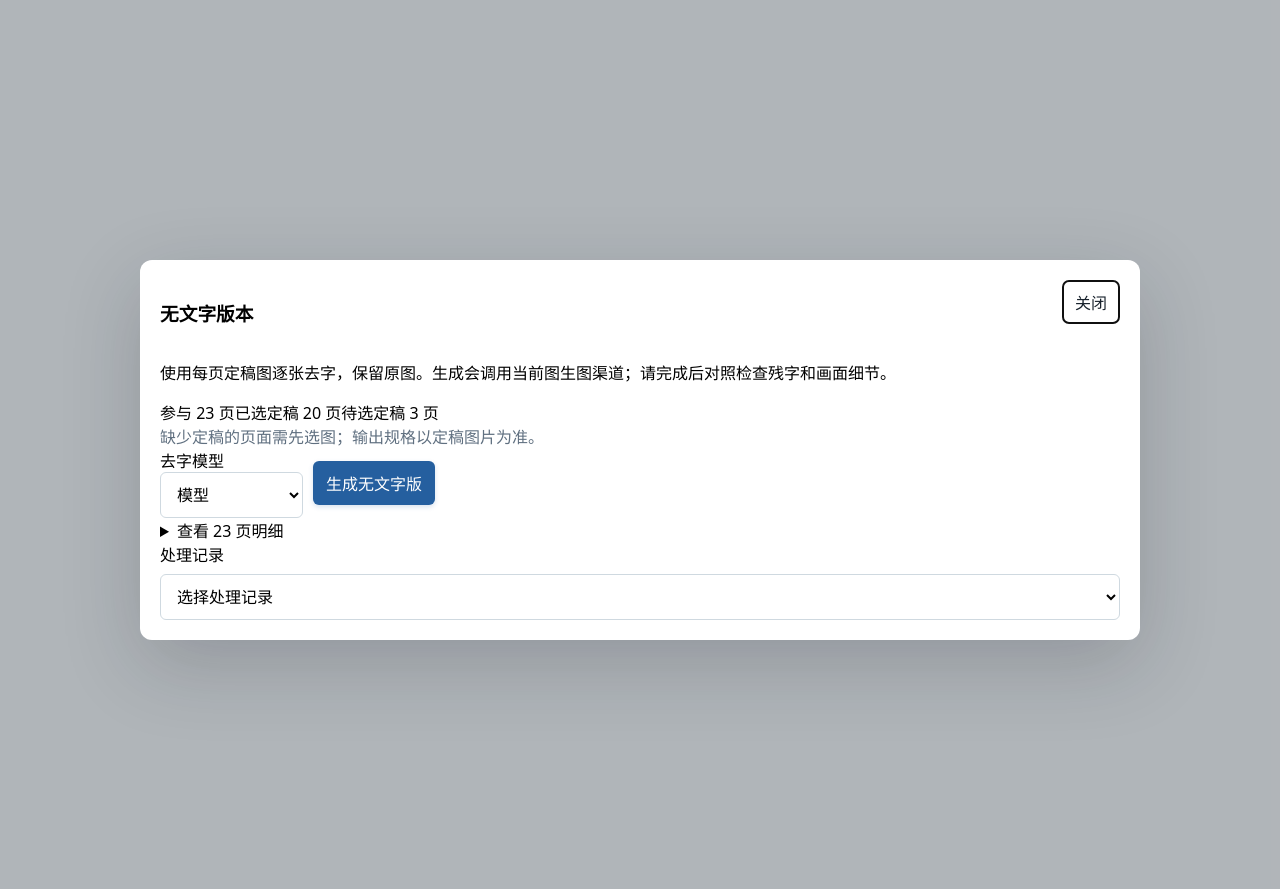
Test: summarizes included pages before controls and collapses the full manifest
The width and height of the screenshot is (1280, 889).
Check: the text "参与 23 页" is shown, box [160,402,235,424]
Check: the text "已选定稿 20 页" is shown, box [235,402,341,424]
Click the heading "查看 23 页明细": (230, 531) [177,520,284,542]
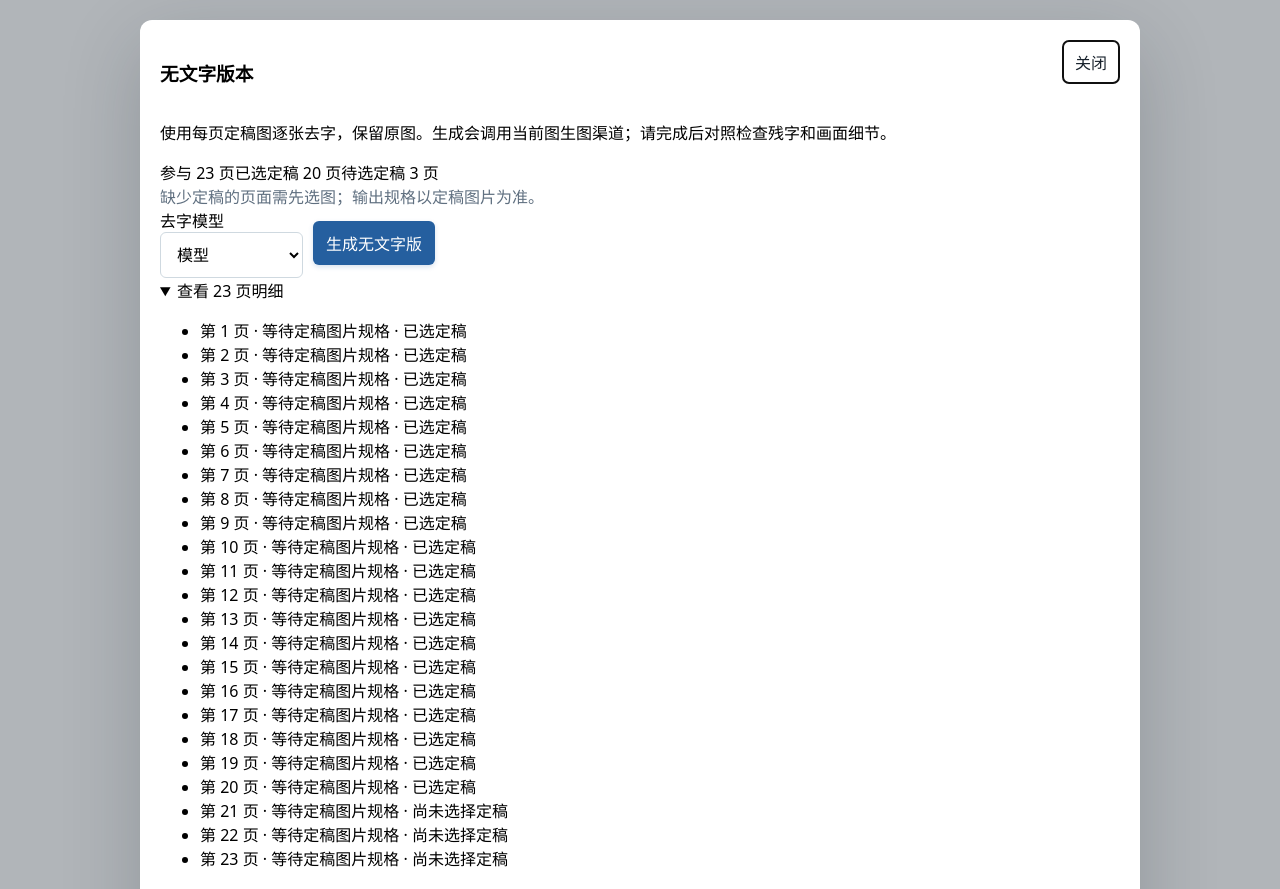
Check: the number of list items is 23
